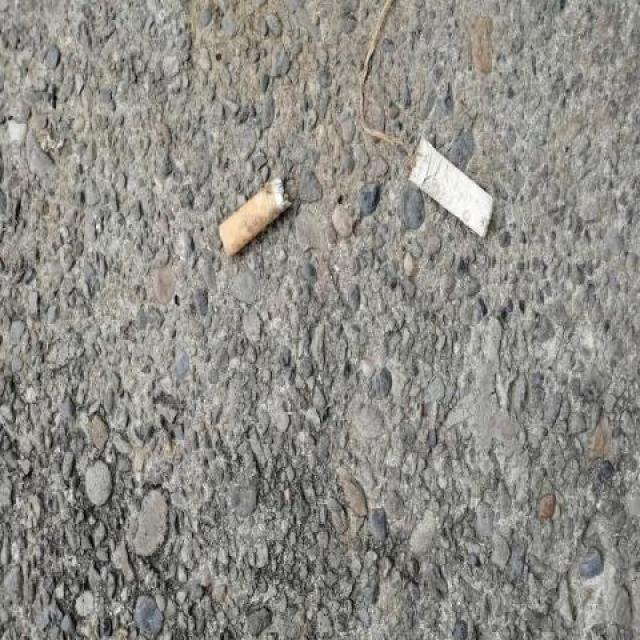non-organic waste: (403, 126, 498, 241), (215, 170, 296, 262)
